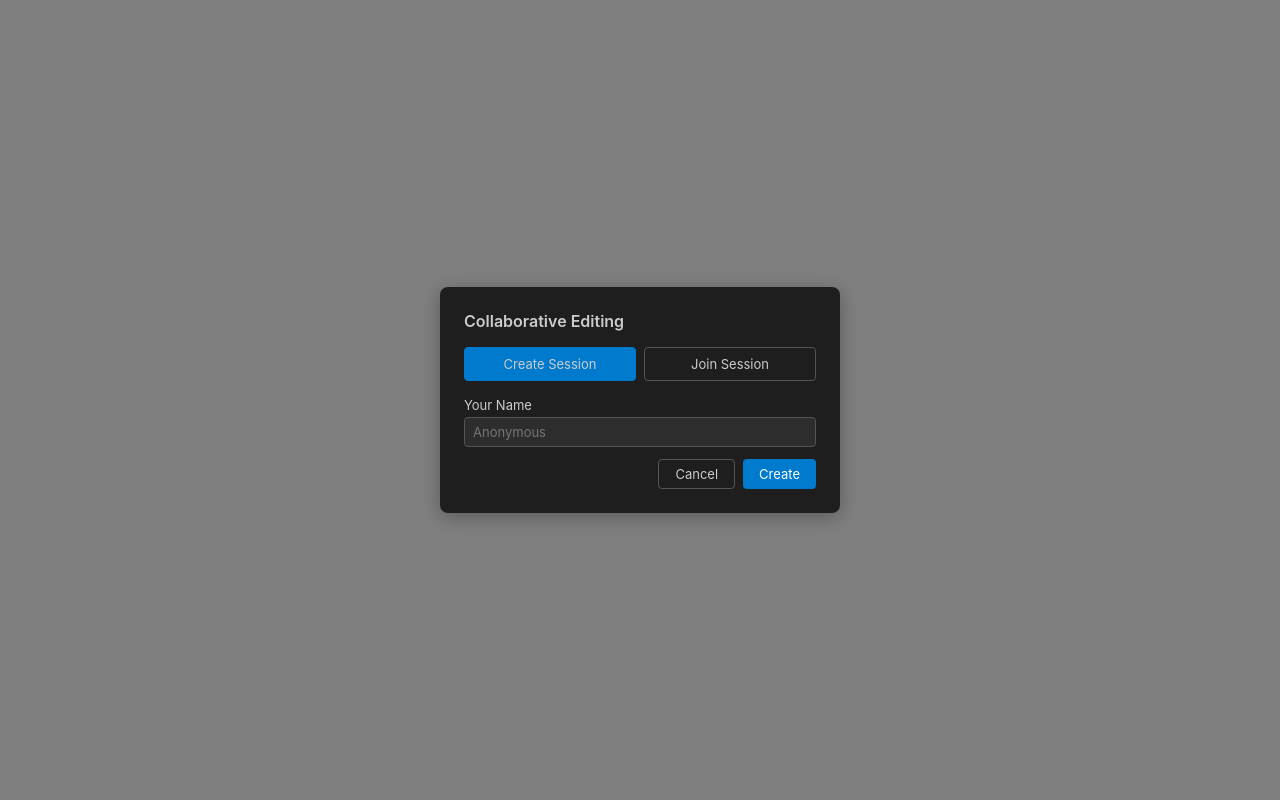
Test case: CollaborationDialogViewPresenter › should show Room ID input when Join mode selected
What coordinates should you click on to do the following:
click the button "Join Session"
I would click on:
 (730, 364)
Its box is [644,347,816,381].
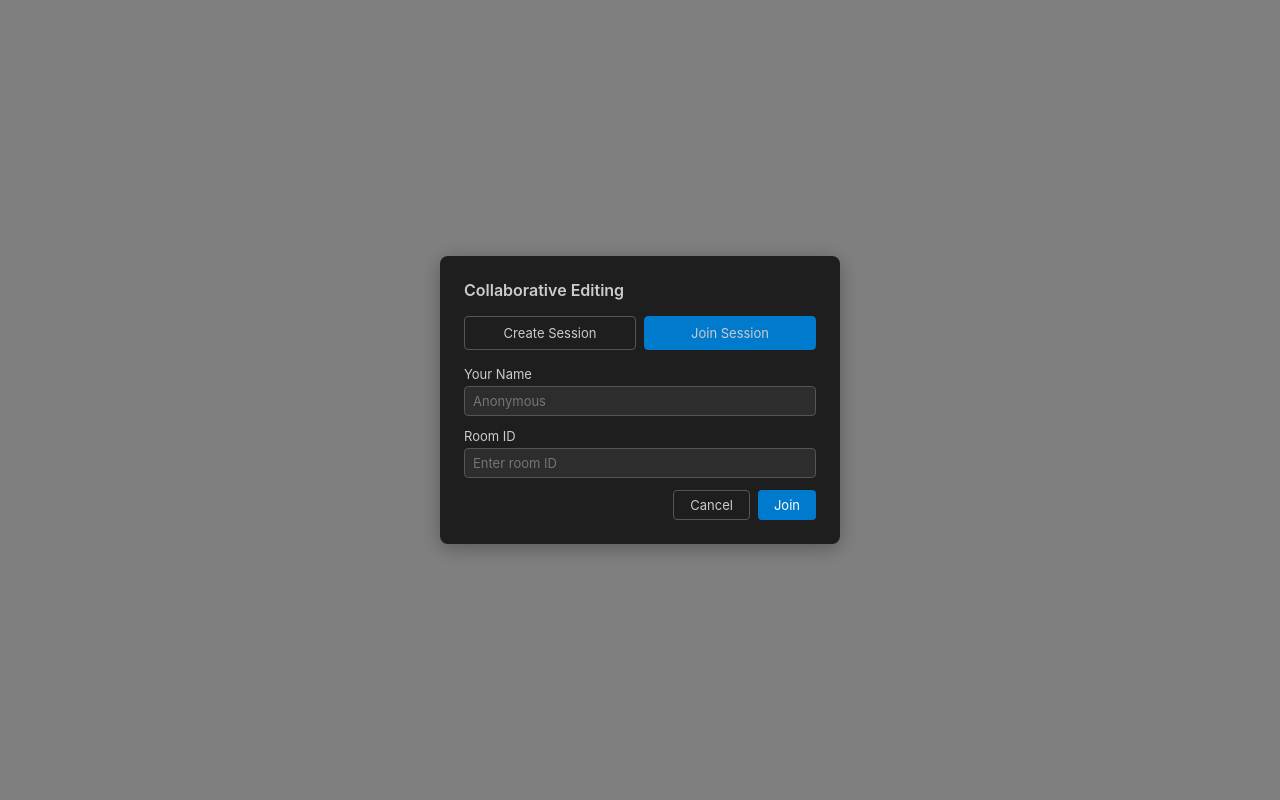
Now the field named "Room ID to join" is shown, box [464,448,816,478]
